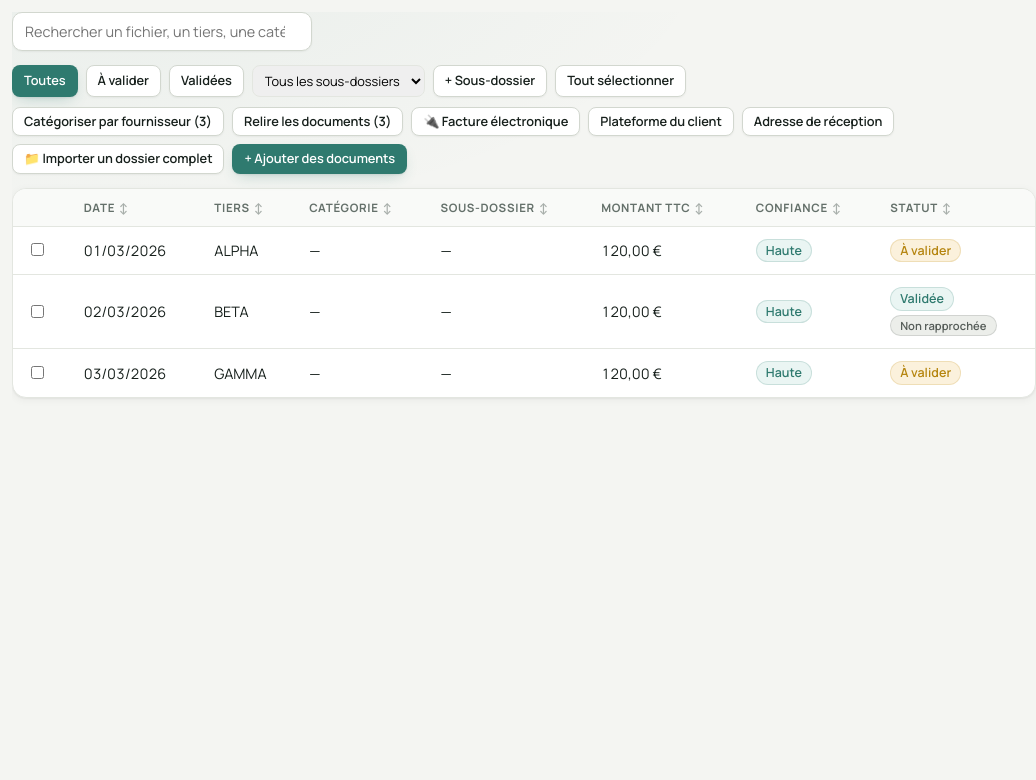
PiecesTab — la fiche d’une pièce dans le panneau de droite › sans saisie, on passe d’une pièce à l’autre sans qu’on demande rien
What coordinates should you click on to do the following:
click the text "ALPHA"
I would click on:
 (248, 250)
Its box is [200,226,295,275].
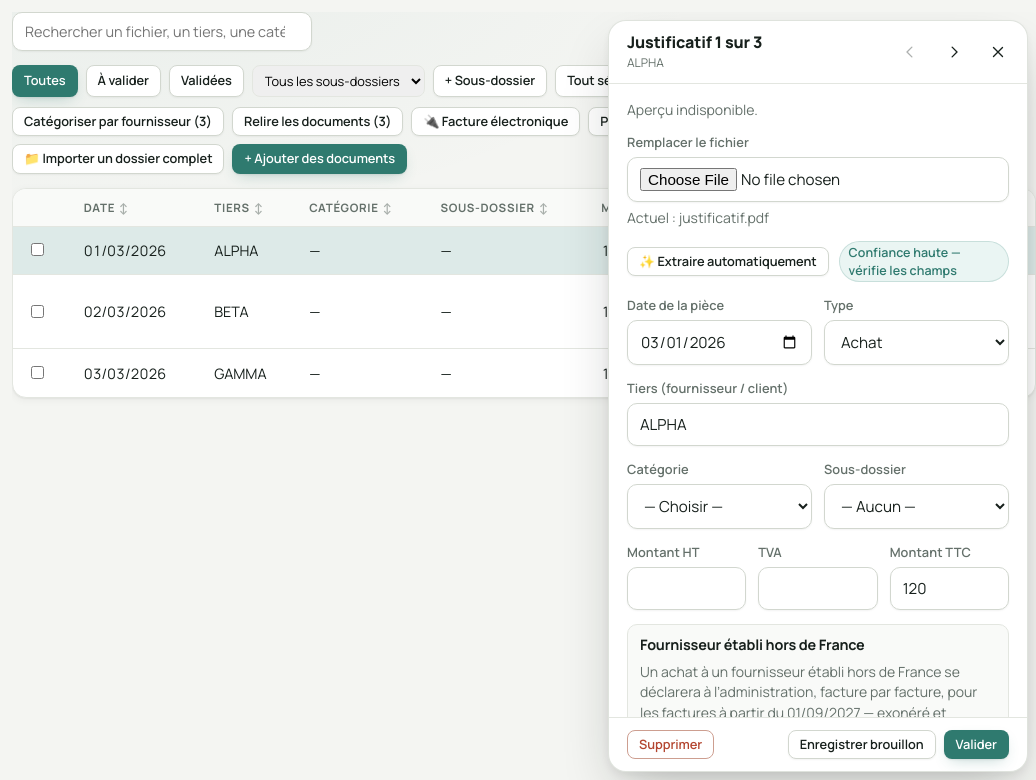
What coordinates should you click on to do the following:
click the button named "Justificatif suivant"
I would click on:
 (954, 52)
Its box is [937,35,971,69].
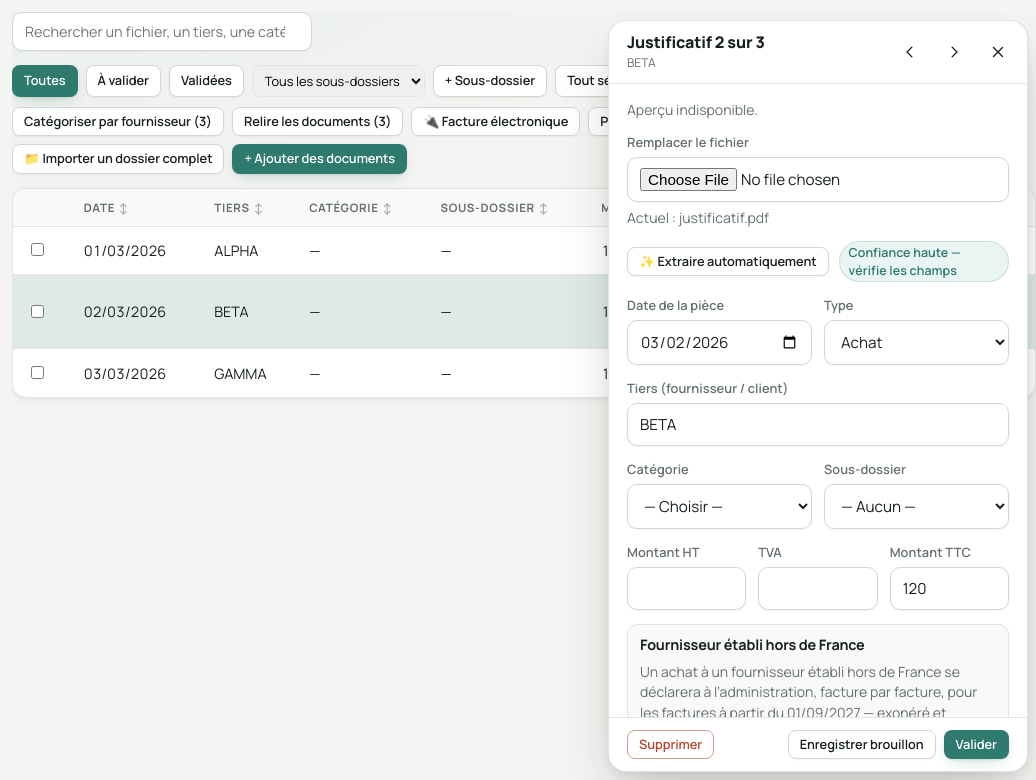
Expected: the heading "Justificatif 2 sur 3" is shown, [627,31,765,53]
